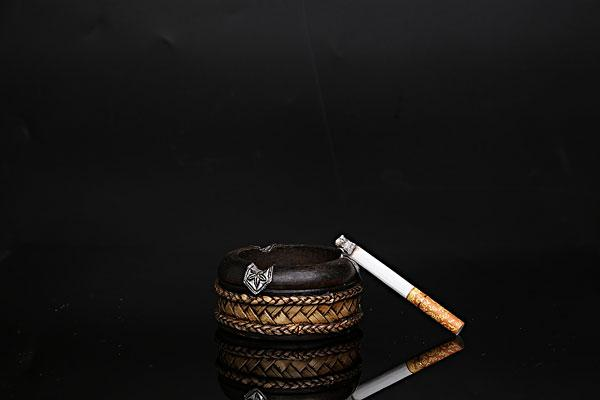smoke: (336, 235, 465, 334), (345, 340, 462, 400)
